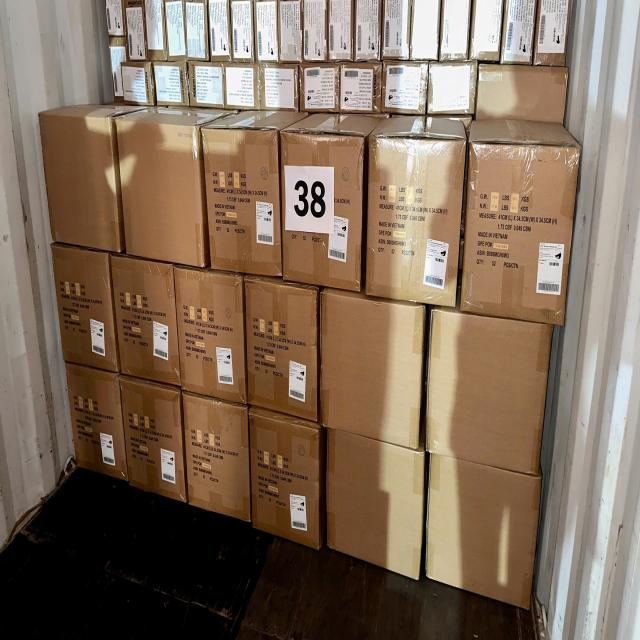Carton: (465, 140, 577, 327), (428, 308, 549, 474), (426, 457, 544, 614), (319, 292, 424, 448), (370, 135, 461, 310), (327, 428, 423, 580), (116, 118, 204, 270), (282, 128, 362, 289), (201, 126, 281, 280), (39, 112, 121, 254), (242, 276, 321, 422), (174, 264, 250, 407), (248, 410, 318, 548), (110, 255, 182, 389), (183, 391, 251, 525), (119, 373, 187, 505), (51, 246, 119, 371), (64, 363, 128, 486)
